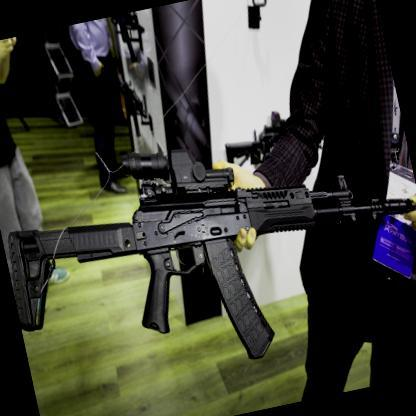rifle: (0, 78, 416, 395)
